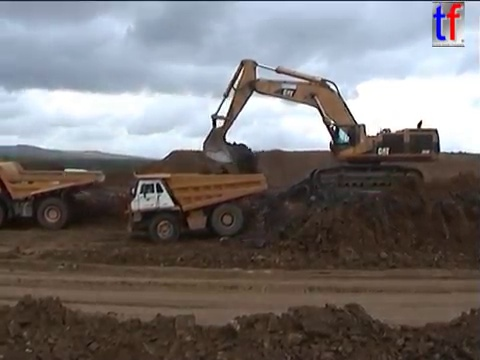excavator: (199, 56, 443, 201)
truck: (122, 169, 268, 244), (1, 159, 106, 231)
